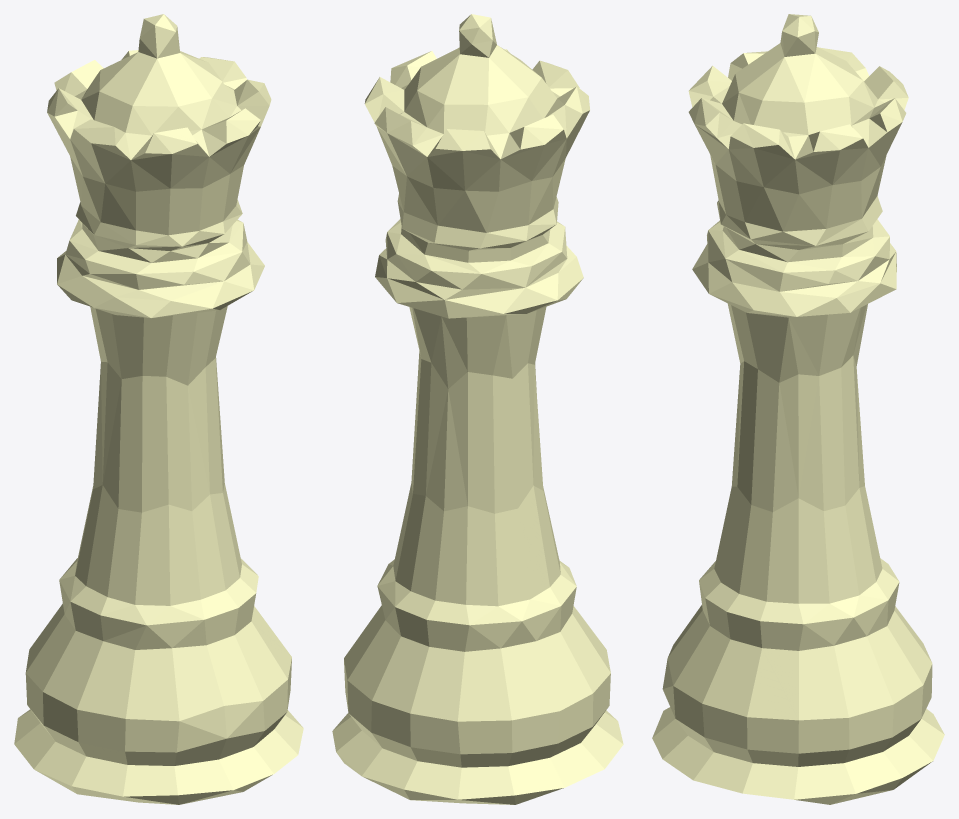
The model's file is queen_lt.fbx.
The picture shows the model from 3 angles, left to right: view 1: azimuth 30°, elevation 25°; view 2: azimuth 150°, elevation 25°; view 3: azimuth 270°, elevation 25°; orthographic projection.
Visible parts, largest first — view 1: Queen_LT; view 2: Queen_LT; view 3: Queen_LT.
Part boxes in pixels (x1=…): Queen_LT: x1=14, y1=14, x2=303, y2=804; Queen_LT: x1=332, y1=14, x2=623, y2=804; Queen_LT: x1=652, y1=14, x2=944, y2=804.
Bounding box in the file's own units: 1.71 × 4.8 × 1.72.
